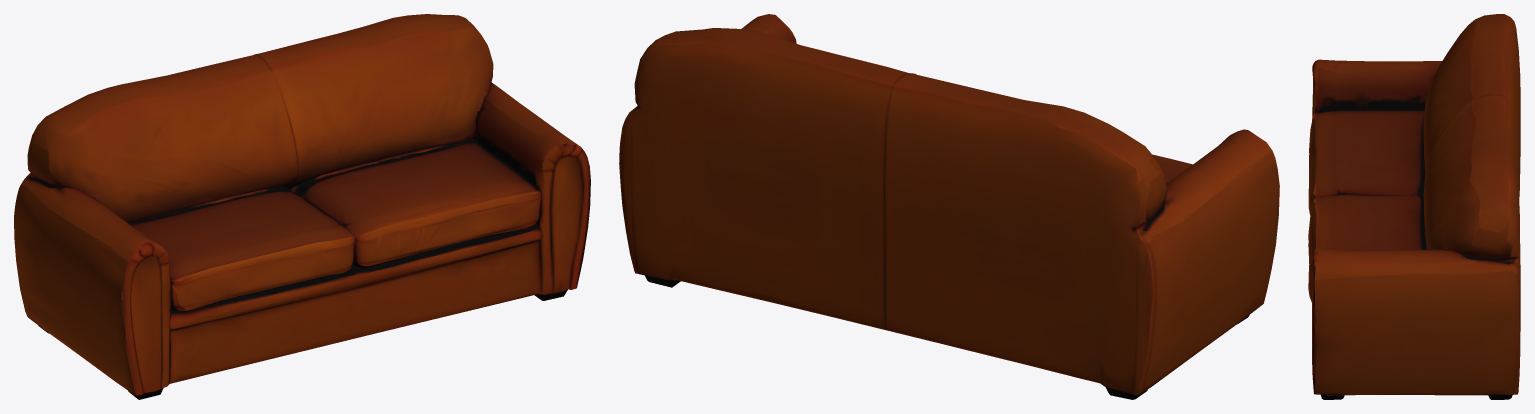
Rendered from Canape3_3D_textured.glb.
The picture shows the model from 3 angles, left to right: view 1: azimuth 30°, elevation 25°; view 2: azimuth 150°, elevation 25°; view 3: azimuth 270°, elevation 25°; orthographic projection. The views are drawn at different scales.
Parts seen in each view (by area): view 1: temp_mesh.ply; view 2: temp_mesh.ply; view 3: temp_mesh.ply.
Part boxes in pixels (x1=…): temp_mesh.ply: x1=14, y1=14, x2=590, y2=399; temp_mesh.ply: x1=619, y1=14, x2=1279, y2=399; temp_mesh.ply: x1=1308, y1=14, x2=1520, y2=399.
Size of the model in its own units: 1.97 by 0.9122 by 0.8315.
Materials: 1 (1 with a texture image).
